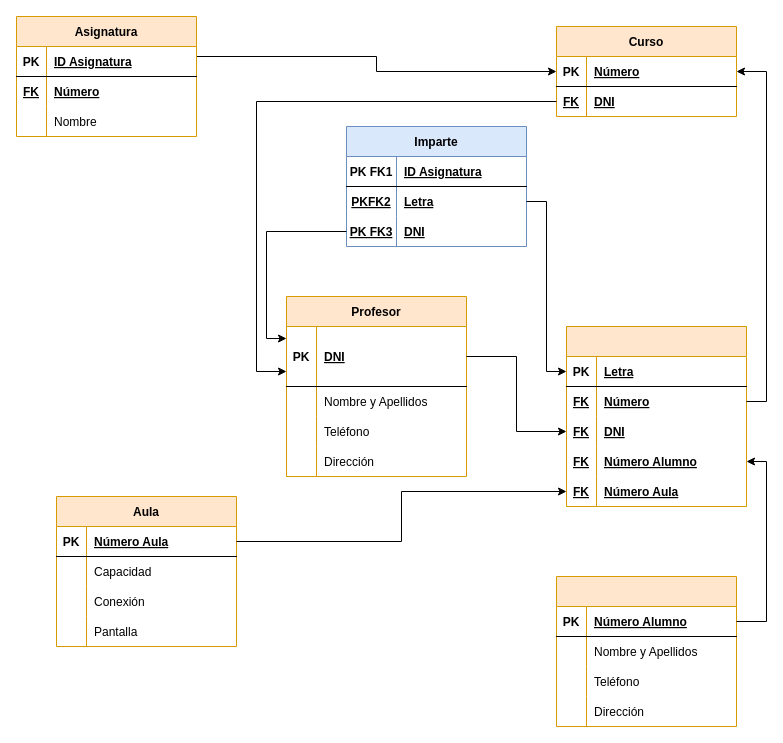
Image size: 783x743. Some labels were removed from this diagram. Each missing label, with the box of its shape:
Alumnno: (556, 576, 736, 726)
Grupo: (566, 326, 746, 506)
